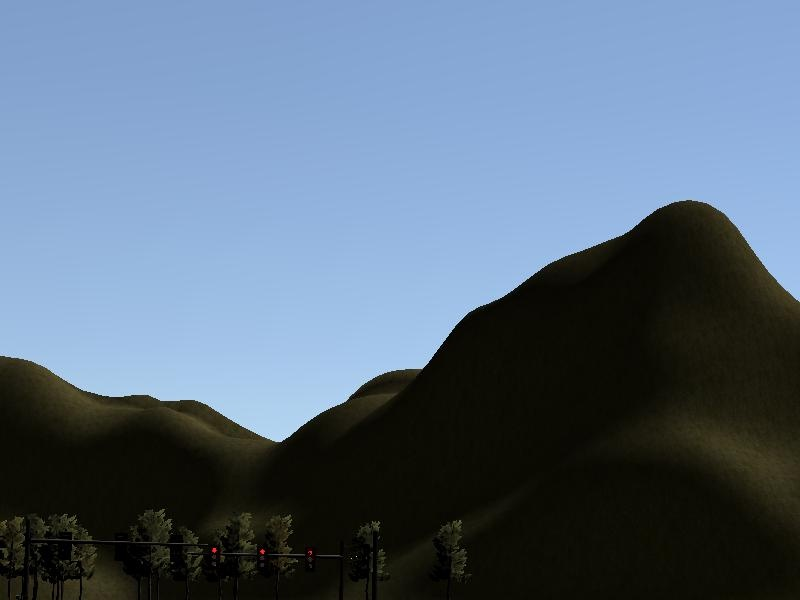RED: (256, 545, 270, 574), (208, 543, 221, 571)
